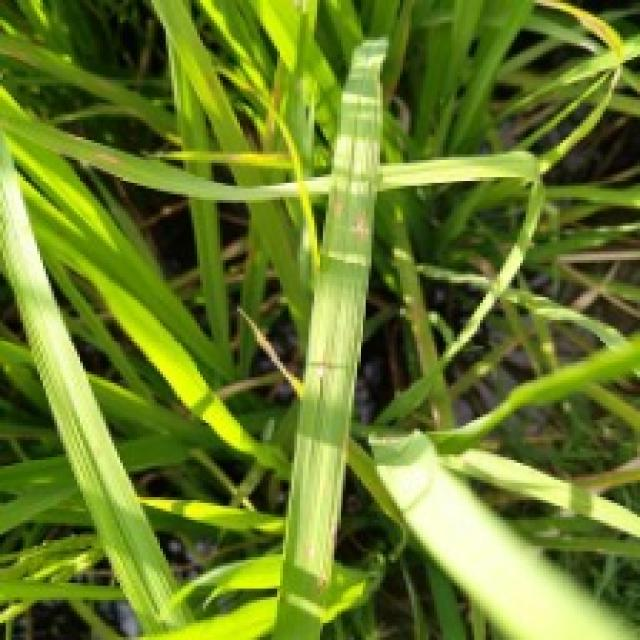Brown_Spot: (308, 193, 383, 255), (296, 521, 313, 568), (306, 566, 333, 592)
